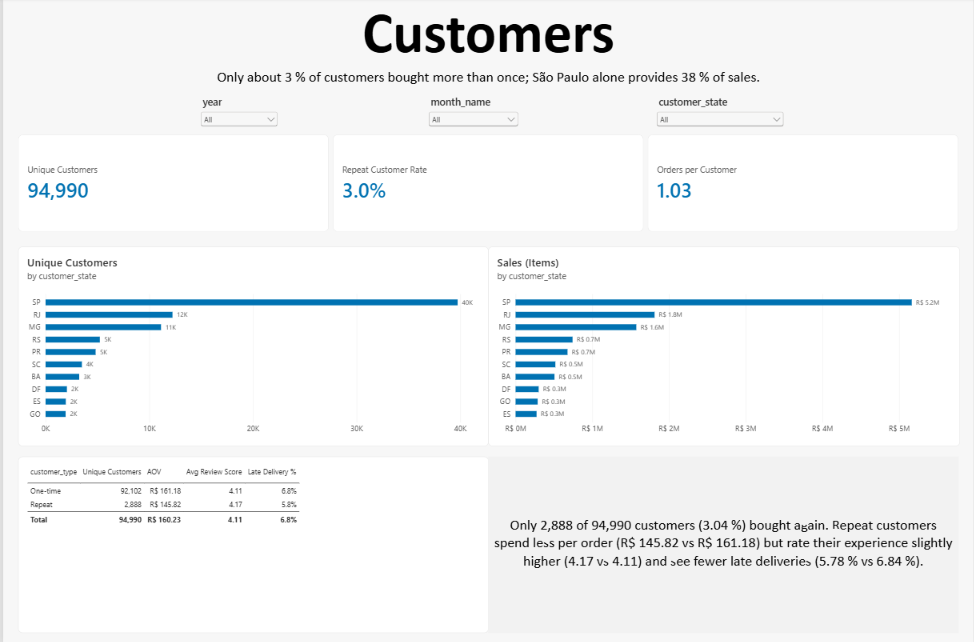

Layout of this report page (visuals, bound fields, positions):
{"tool":"powerbi","page":{"name":"2. Customers","canvas":[1800,1200],"ordinal":1},"visuals":[{"type":"textbox","box":[27.5,0,1745,180],"z":0},{"type":"slicer","fields":{"Values":["dim_date.year"]},"box":[362.5,180,152.5,75],"z":1000},{"type":"slicer","fields":{"Values":["dim_date.month_name"]},"box":[785,180,175,75],"z":2000},{"type":"slicer","fields":{"Values":["fact_orders.customer_state"]},"box":[1207.5,180,245,75],"z":3000},{"type":"cardVisual","fields":{"Data":["_Measures.Unique Customers","_Measures.Repeat Customer Rate","_Measures.Orders per Customer"]},"box":[27.5,255,1745,180],"z":3001},{"type":"clusteredBarChart","fields":{"Category":["fact_orders.customer_state"],"Y":["_Measures.Unique Customers"]},"box":[27.5,462.5,872.5,370],"z":3002},{"type":"clusteredBarChart","fields":{"Category":["fact_orders.customer_state"],"Y":["_Measures.Sales (Items)"]},"box":[900,462.5,875,370],"z":3003},{"type":"tableEx","fields":{"Values":["fact_orders.customer_type","_Measures.Unique Customers","_Measures.AOV","_Measures.Avg Review Score","_Measures.Late Delivery %"]},"box":[27.5,852.5,872.5,327.5],"z":3004},{"type":"textbox","box":[900,852.5,872.5,327.5],"z":3005}]}

Visuals, with their boxes in screenshot pixels (x1, y1, x2, y2), scaled from the page's 1800x1200 canvas onto the 974x642 screenshot:
textbox: pyautogui.locateOnScreen(15, 0, 959, 96)
slicer - dim_date.year: pyautogui.locateOnScreen(196, 96, 279, 136)
slicer - dim_date.month_name: pyautogui.locateOnScreen(425, 96, 519, 136)
slicer - fact_orders.customer_state: pyautogui.locateOnScreen(653, 96, 786, 136)
cardVisual - _Measures.Unique Customers x _Measures.Repeat Customer Rate: pyautogui.locateOnScreen(15, 136, 959, 233)
clusteredBarChart - fact_orders.customer_state x _Measures.Unique Customers: pyautogui.locateOnScreen(15, 247, 487, 445)
clusteredBarChart - fact_orders.customer_state x _Measures.Sales (Items): pyautogui.locateOnScreen(487, 247, 960, 445)
tableEx - fact_orders.customer_type x _Measures.Unique Customers: pyautogui.locateOnScreen(15, 456, 487, 631)
textbox: pyautogui.locateOnScreen(487, 456, 959, 631)
